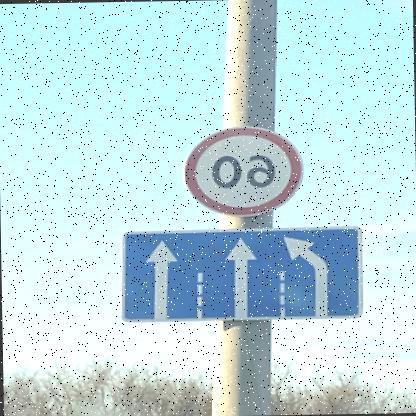speedlimit: (184, 123, 308, 216)
